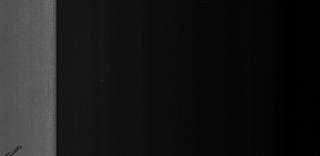oil spot: (4, 144, 22, 156)
